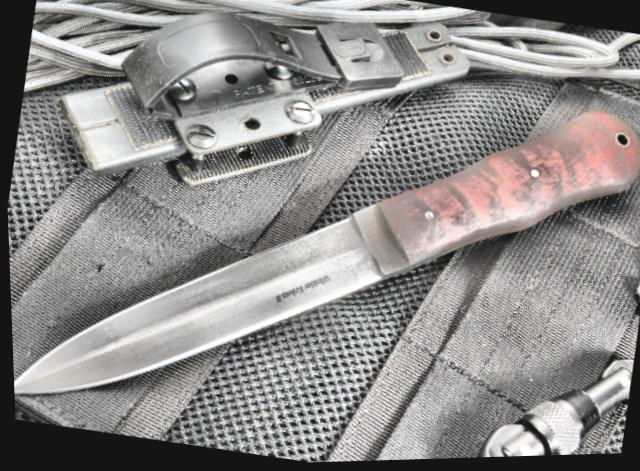knife: (4, 110, 468, 467)
